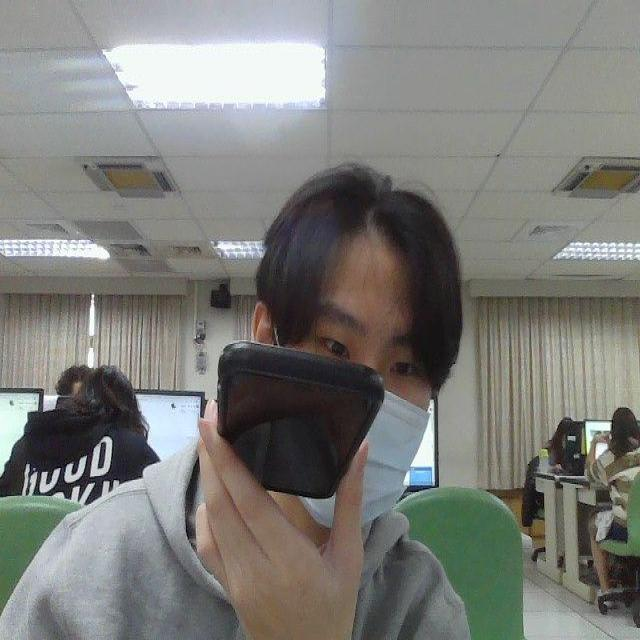phone: (214, 340, 382, 499)
